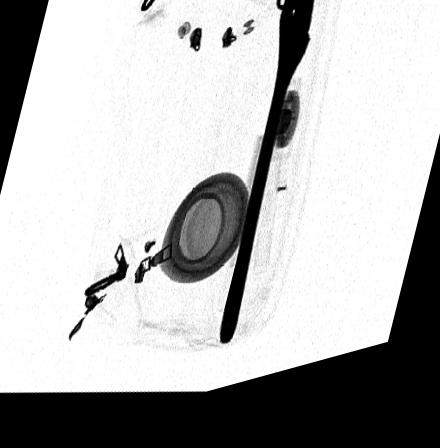Wrench: (216, 0, 315, 357)
